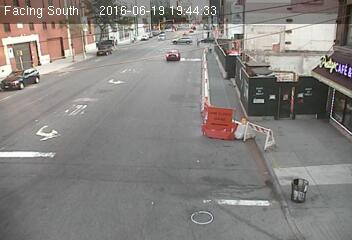neg: (168, 116, 192, 149), (32, 77, 56, 109), (75, 140, 99, 171), (27, 166, 50, 197), (82, 60, 105, 90), (131, 164, 153, 194), (208, 110, 230, 139), (249, 183, 271, 212), (185, 41, 206, 70), (132, 74, 152, 100), (291, 174, 310, 200), (259, 121, 278, 146), (189, 205, 207, 229), (312, 56, 329, 78), (278, 22, 295, 44), (279, 75, 294, 95)
